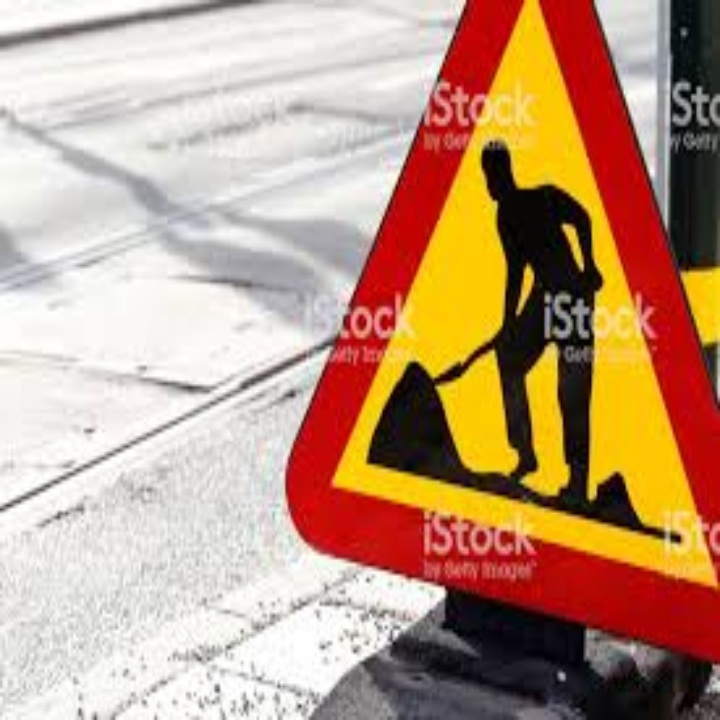const: (349, 123, 693, 539)
